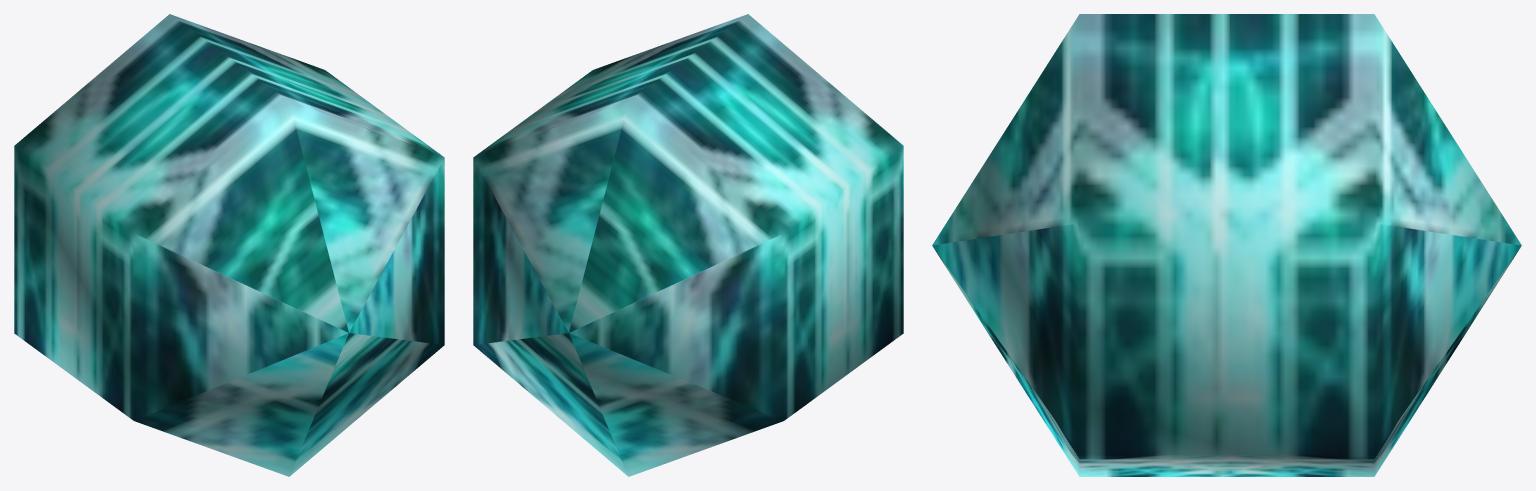
File: mayastone05.glb
The picture shows the model from 3 angles, left to right: view 1: azimuth 30°, elevation 25°; view 2: azimuth 150°, elevation 25°; view 3: azimuth 270°, elevation 25°; orthographic projection. The views are drawn at different scales.
Parts seen in each view (by area): view 1: model_mayastone05; view 2: model_mayastone05; view 3: model_mayastone05.
Boxes of the visible parts, box(x1,y1,x2,y2) form: model_mayastone05: box(14, 14, 444, 476); model_mayastone05: box(473, 14, 903, 476); model_mayastone05: box(932, 14, 1521, 476).
Size of the model in its own units: 0.0165 by 0.019 by 0.0219.
Materials: 1 (1 with a texture image).
